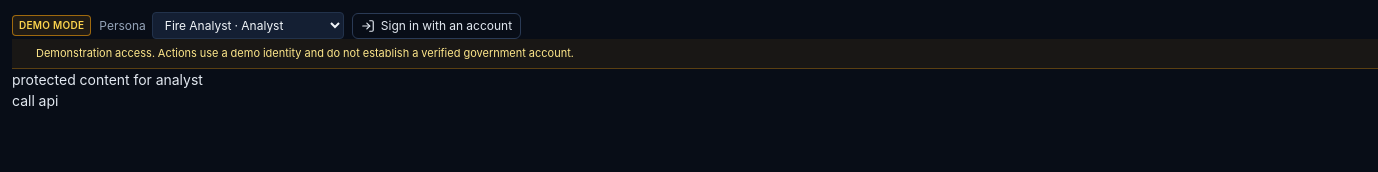
Test: development mode › switching persona re-resolves identity on the server and persists the choice
Select "Range Officer · Forest Officer" in the dropdown named "Demo persona". click: (248, 26)
box: [152, 12, 344, 39]
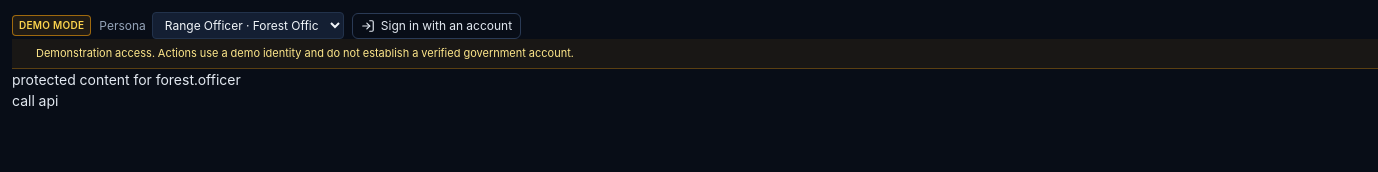
Result: the text "protected content for forest.officer" is shown at [12, 70, 241, 88]
